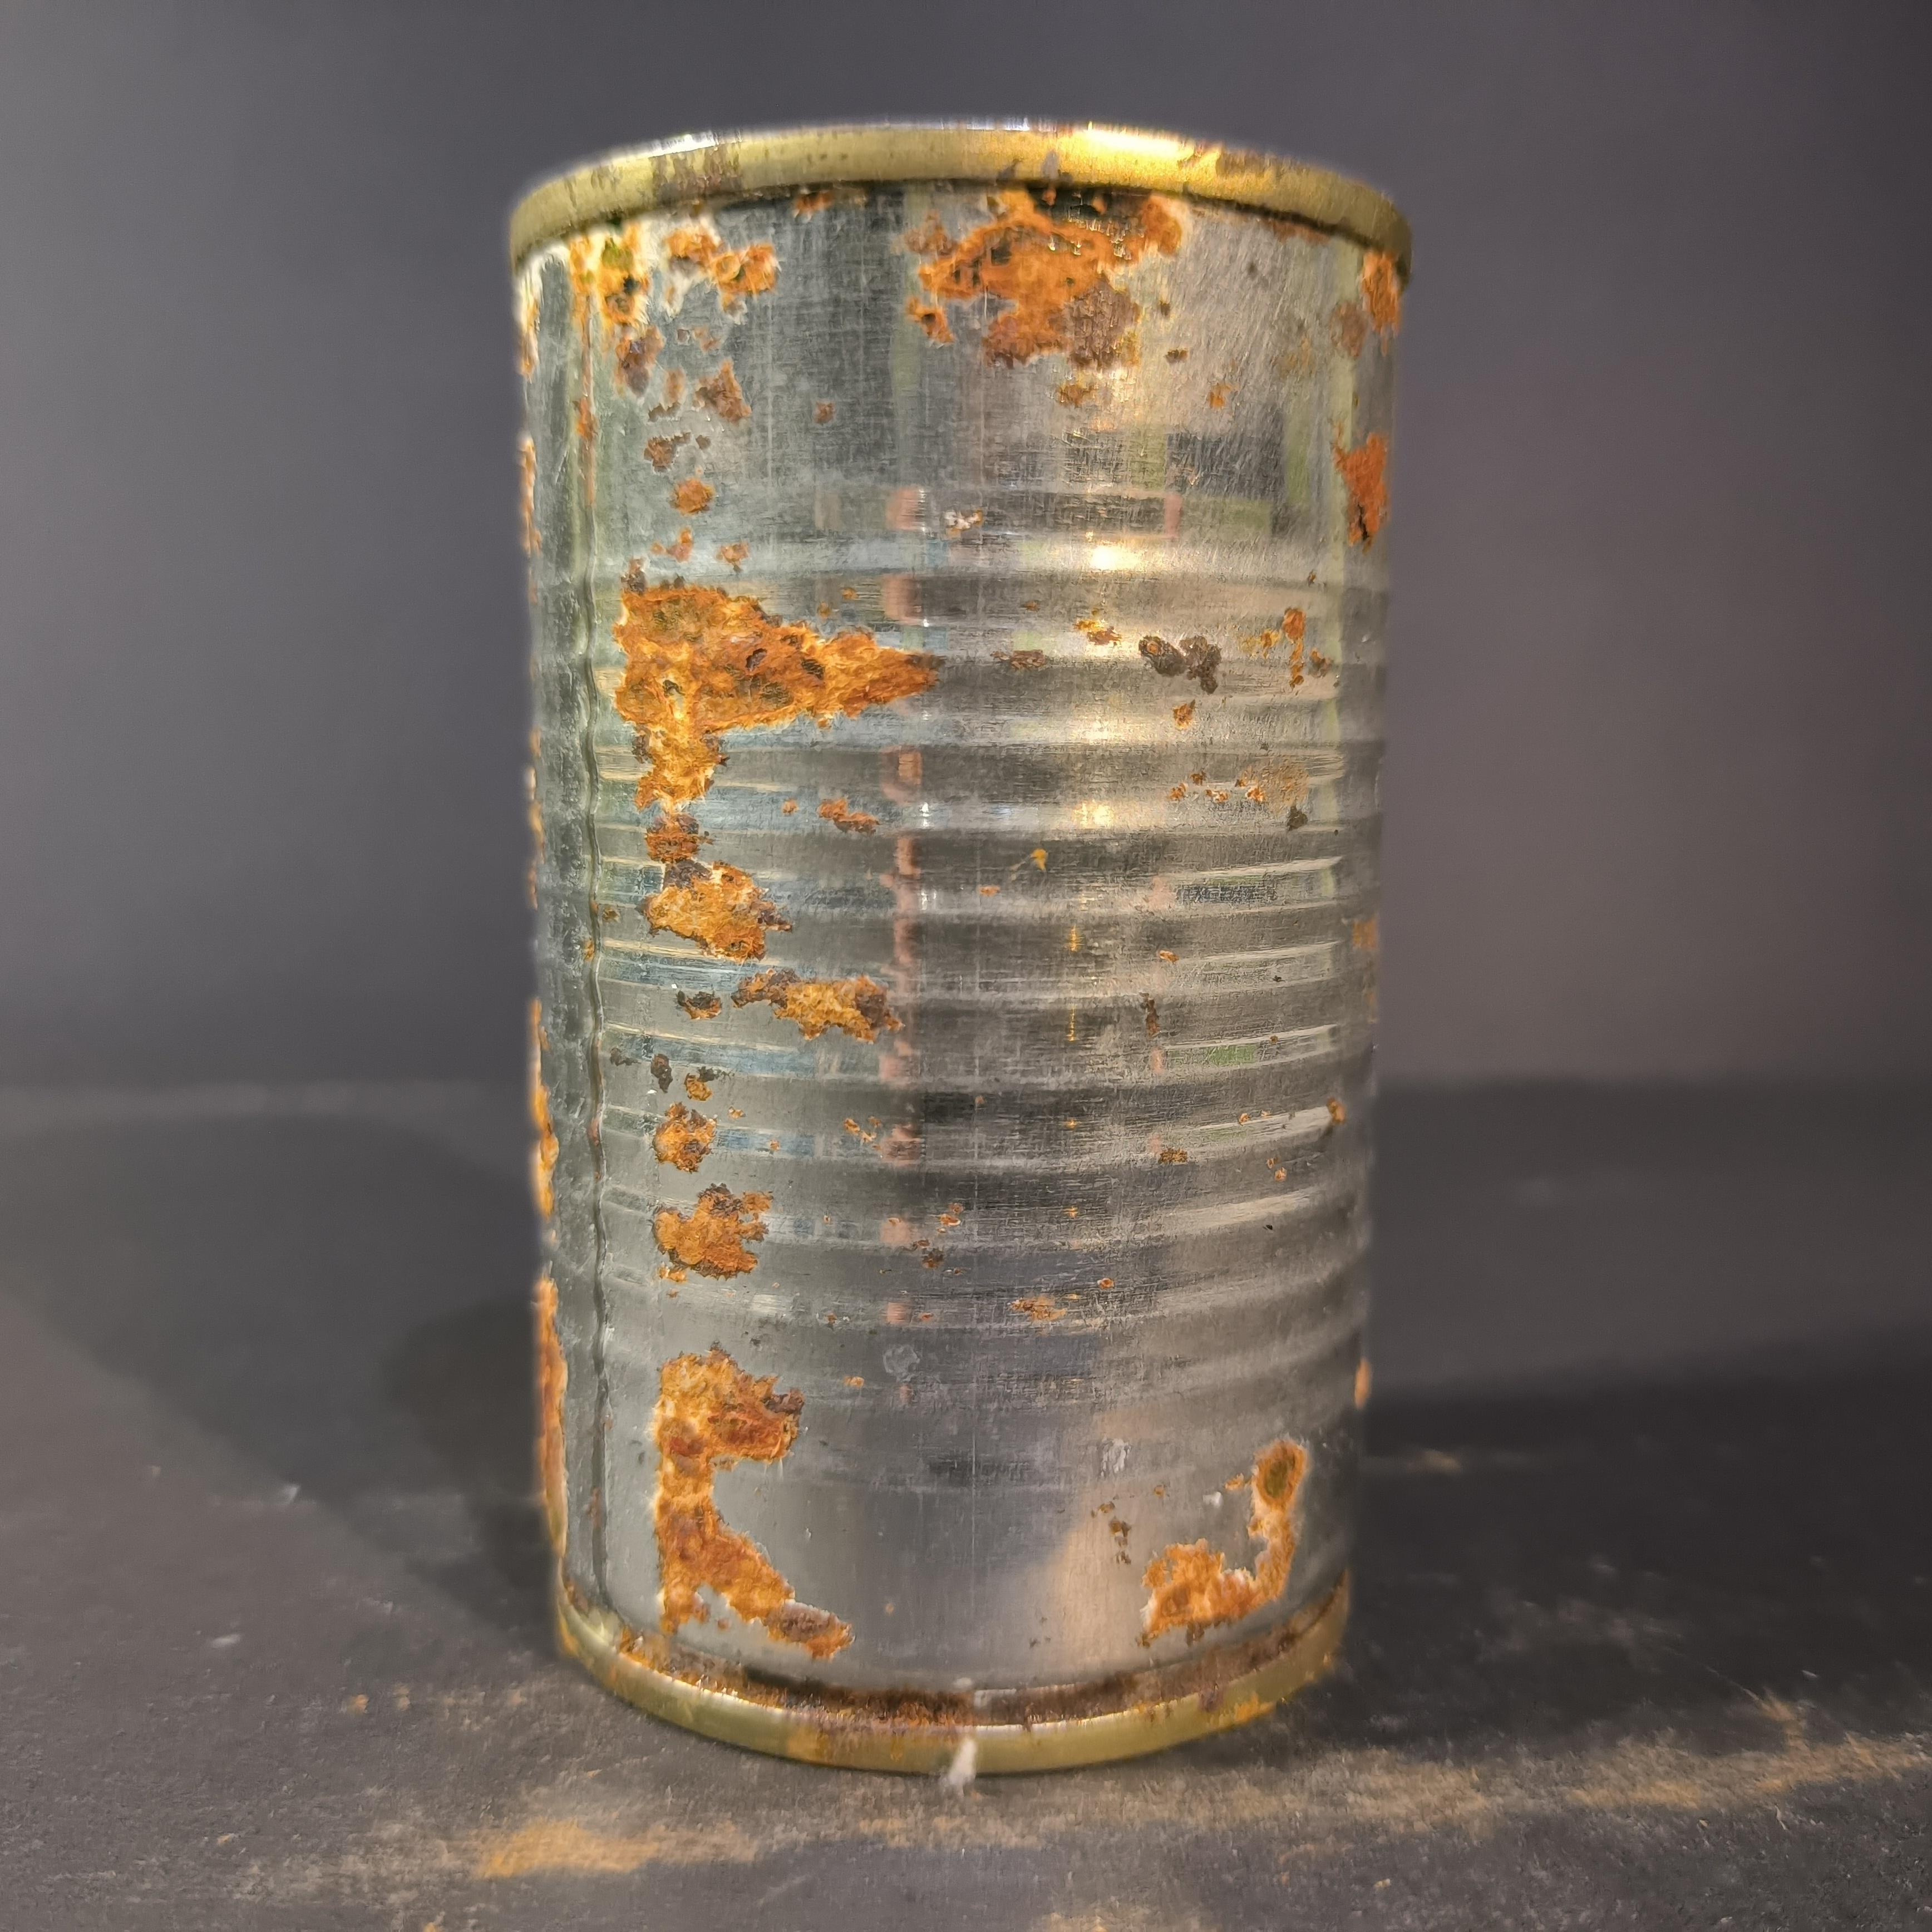Rusted: (487, 73, 1438, 1780)
